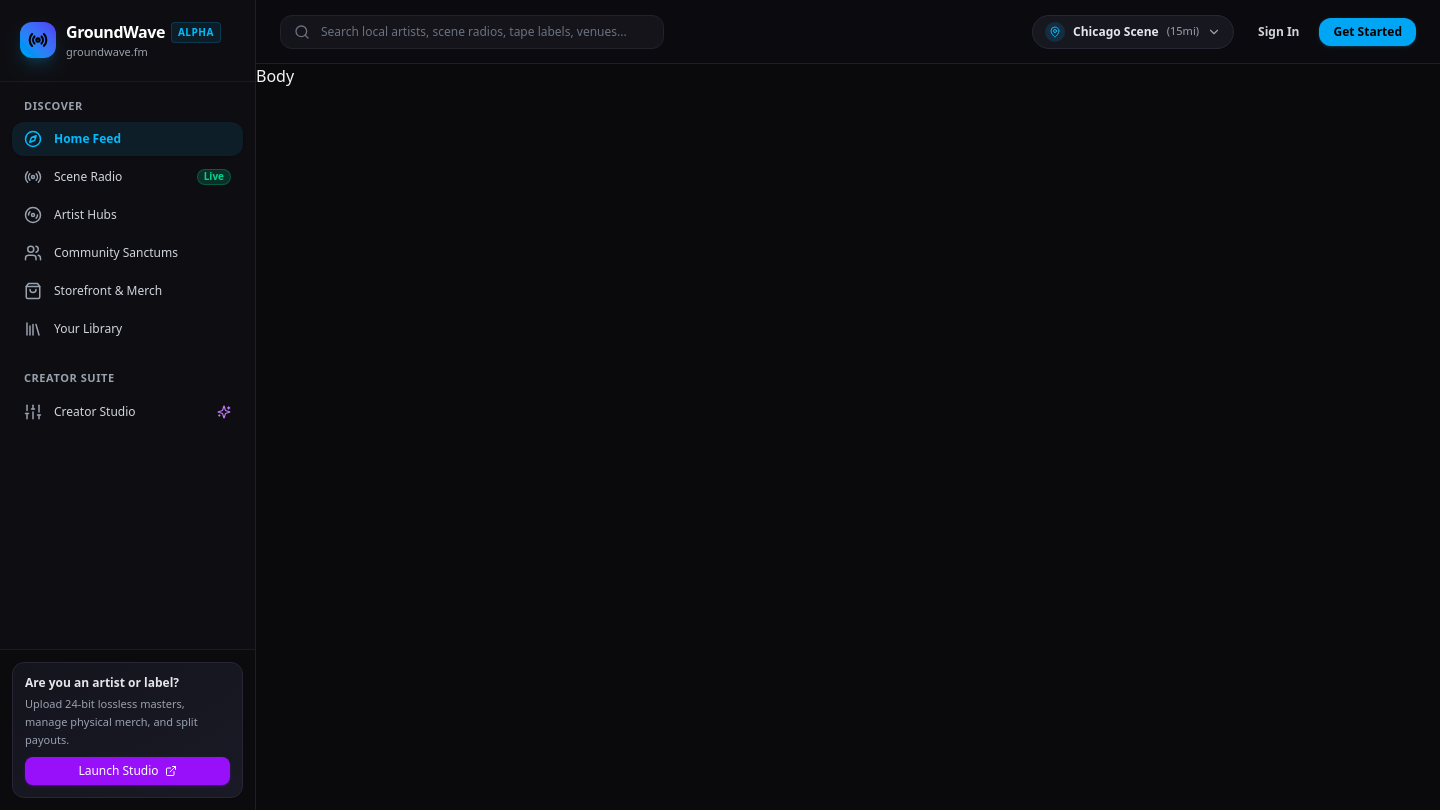
Test case: AppShell & Layout Components › allows scene dropdown selection and updates header scene badge
Click the text "Chicago Scene" at (1116,32), box [1073, 24, 1159, 40]
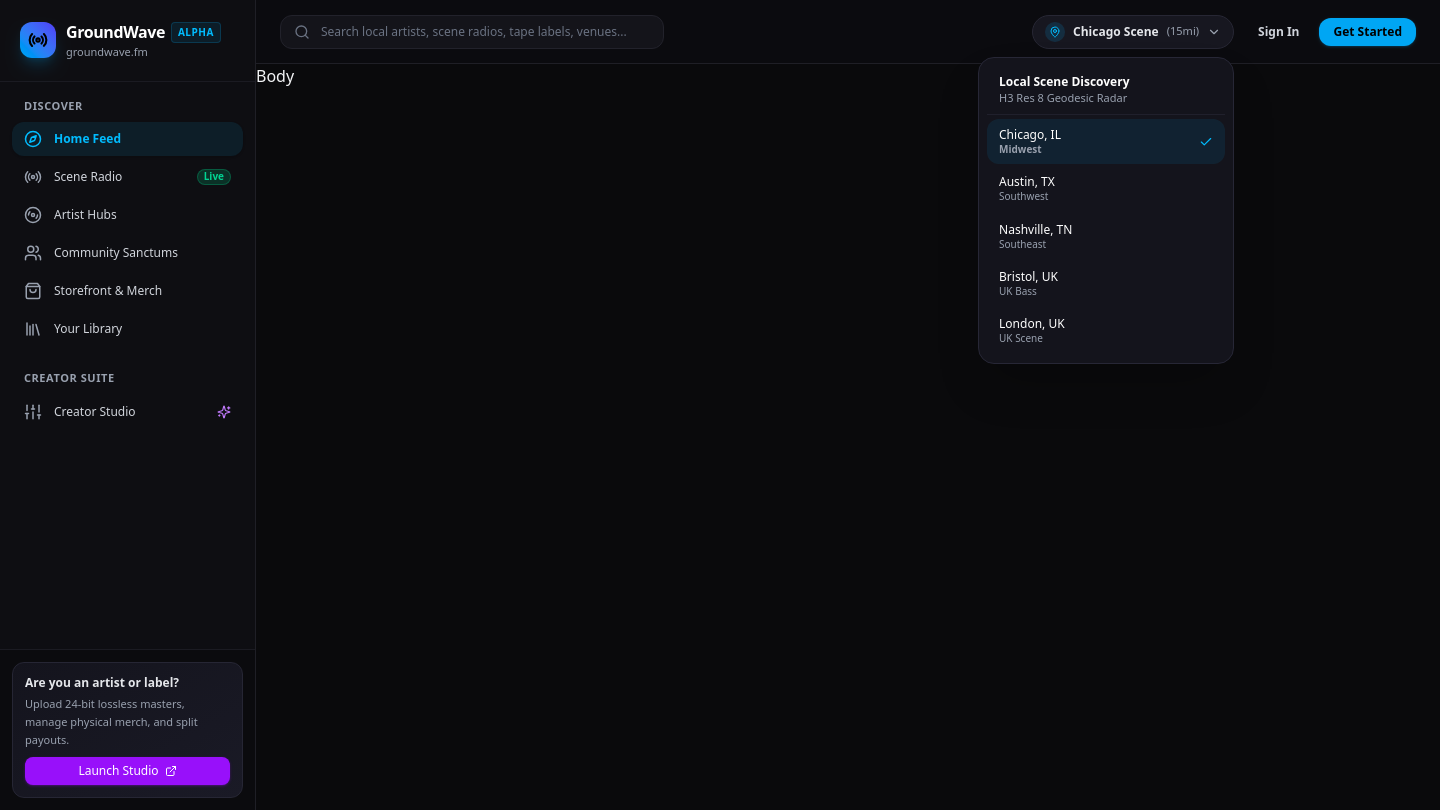
Expected: the text "Local Scene Discovery" is shown, [999, 72, 1129, 90]
Click the text "Austin, TX" at (1027,182), box [999, 174, 1055, 190]
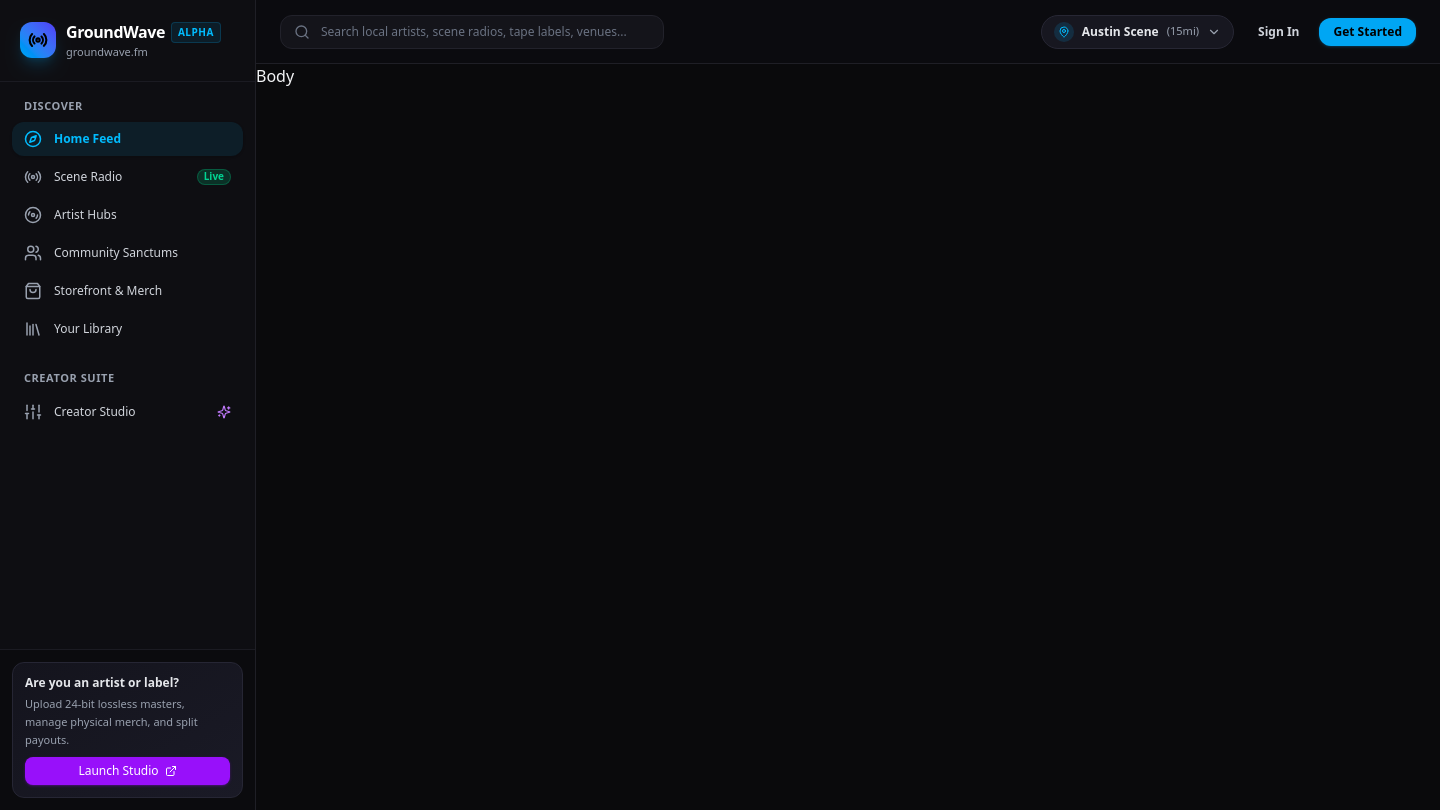
Expected: the text "Austin Scene" is shown, [1082, 24, 1159, 40]
